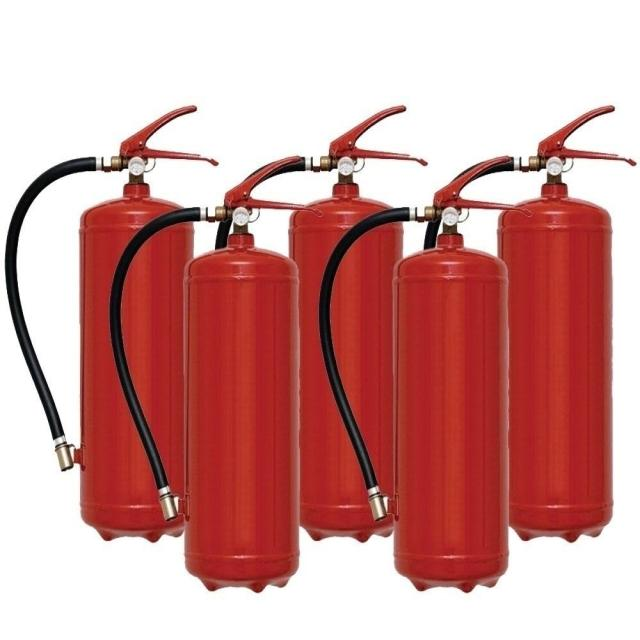fire_extinguisher: (416, 99, 640, 543), (208, 100, 430, 547), (312, 152, 534, 596), (104, 152, 326, 594), (2, 101, 223, 544)
